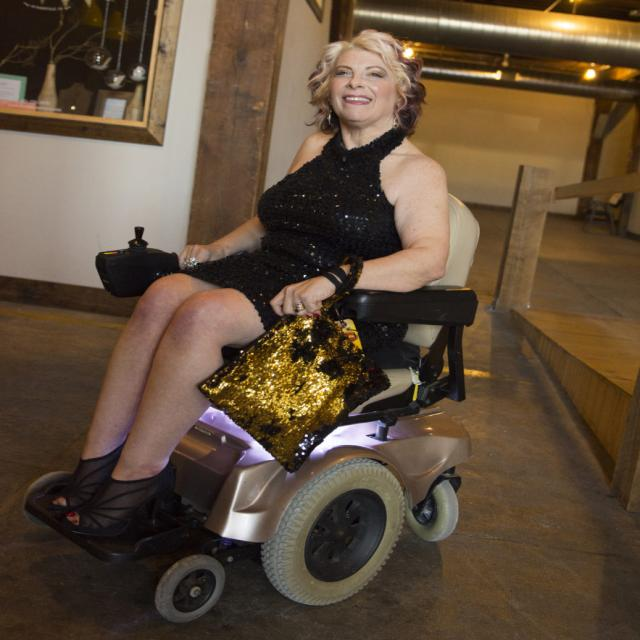wheelchairs: (8, 168, 518, 625)
